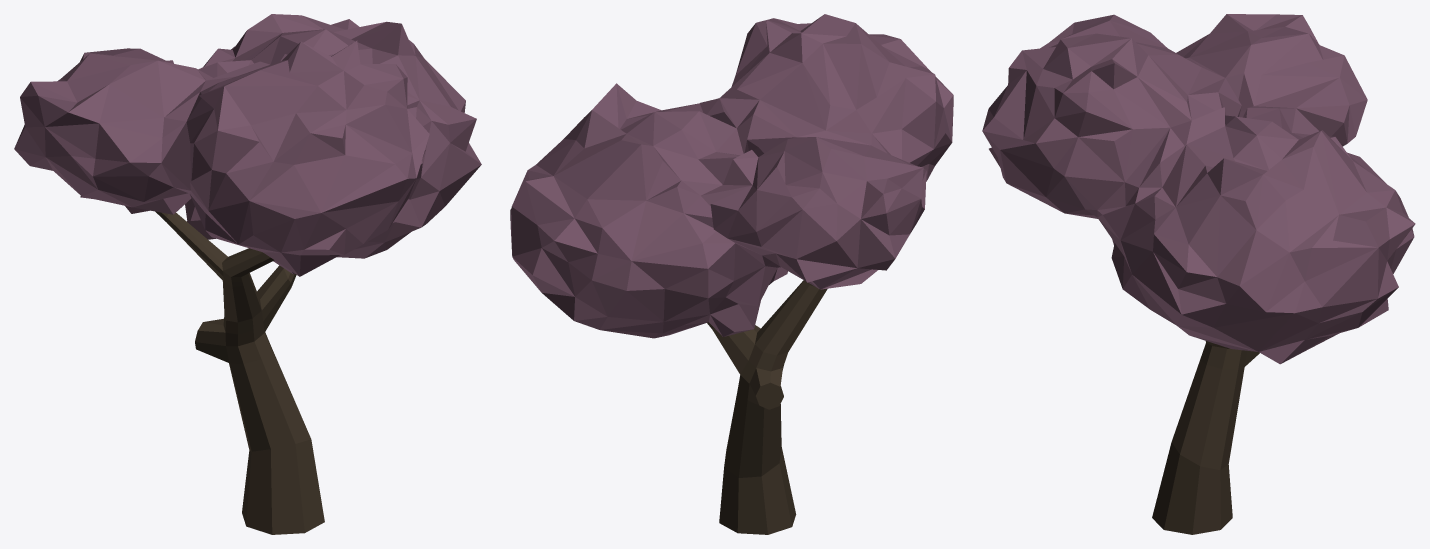
Rendered from MDL_Pink_Tree.fbx.
3 renders of one model, left to right at view 1: azimuth 30°, elevation 25°; view 2: azimuth 150°, elevation 25°; view 3: azimuth 270°, elevation 25°, orthographic. The views are drawn at different scales.
Parts seen in each view (by area): view 1: tree_pink; view 2: tree_pink; view 3: tree_pink.
Boxes of the visible parts, x1,y1,x2,y2 form: tree_pink: (14, 14, 481, 534); tree_pink: (510, 14, 953, 534); tree_pink: (982, 14, 1415, 534).
Bounding box in the file's own units: 0.1992 × 0.2257 × 0.1875.
